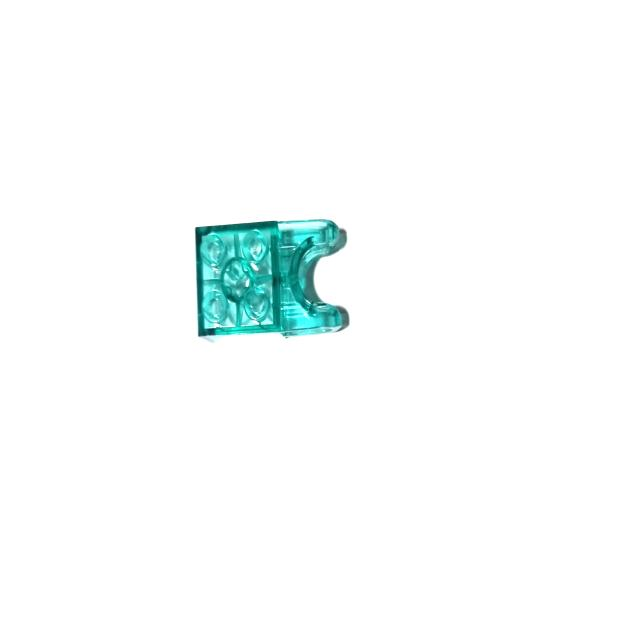Green_Medium: (195, 220, 345, 339)
